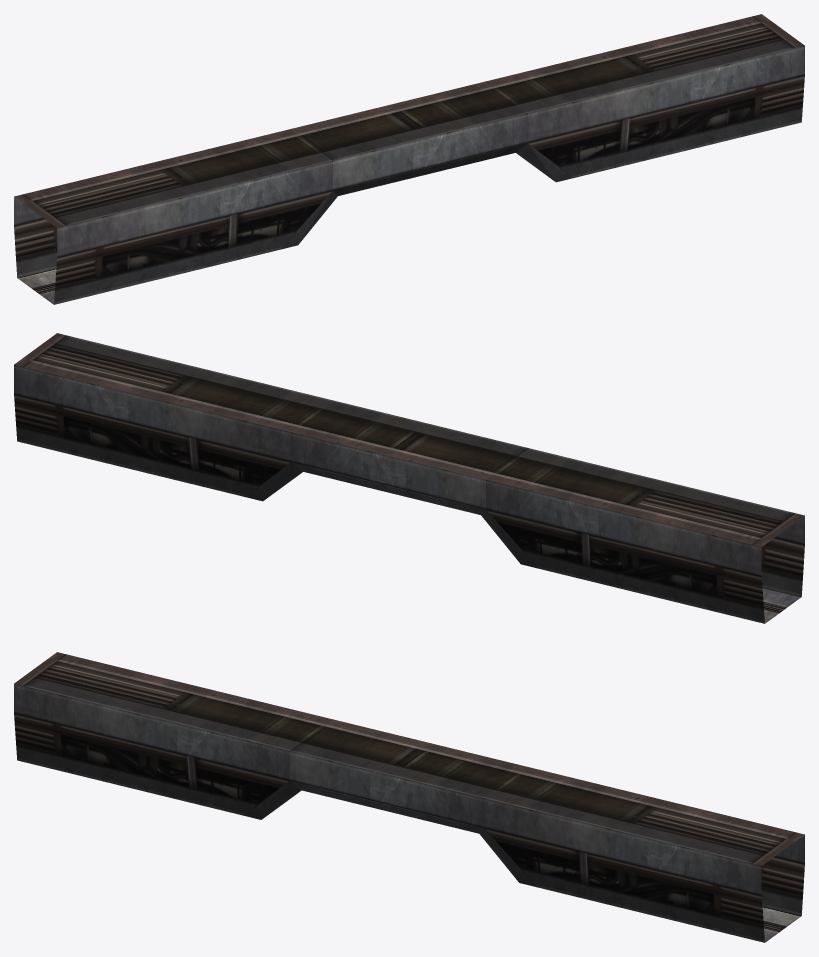
Rendered from BeamDark_A_00.fbx.
3 renders of one model, top to bottom at view 1: azimuth 30°, elevation 25°; view 2: azimuth 150°, elevation 25°; view 3: azimuth 330°, elevation 25°, orthographic.
Parts seen in each view (by area): view 1: Beam_00; view 2: Beam_00; view 3: Beam_00.
Boxes of the visible parts, x1,y1,x2,y2 form: Beam_00: (14,14,804,304); Beam_00: (14,333,804,623); Beam_00: (14,652,804,942).
Bounding box in the file's own units: 500 × 50.56 × 50.
1 material, 1 textured.
